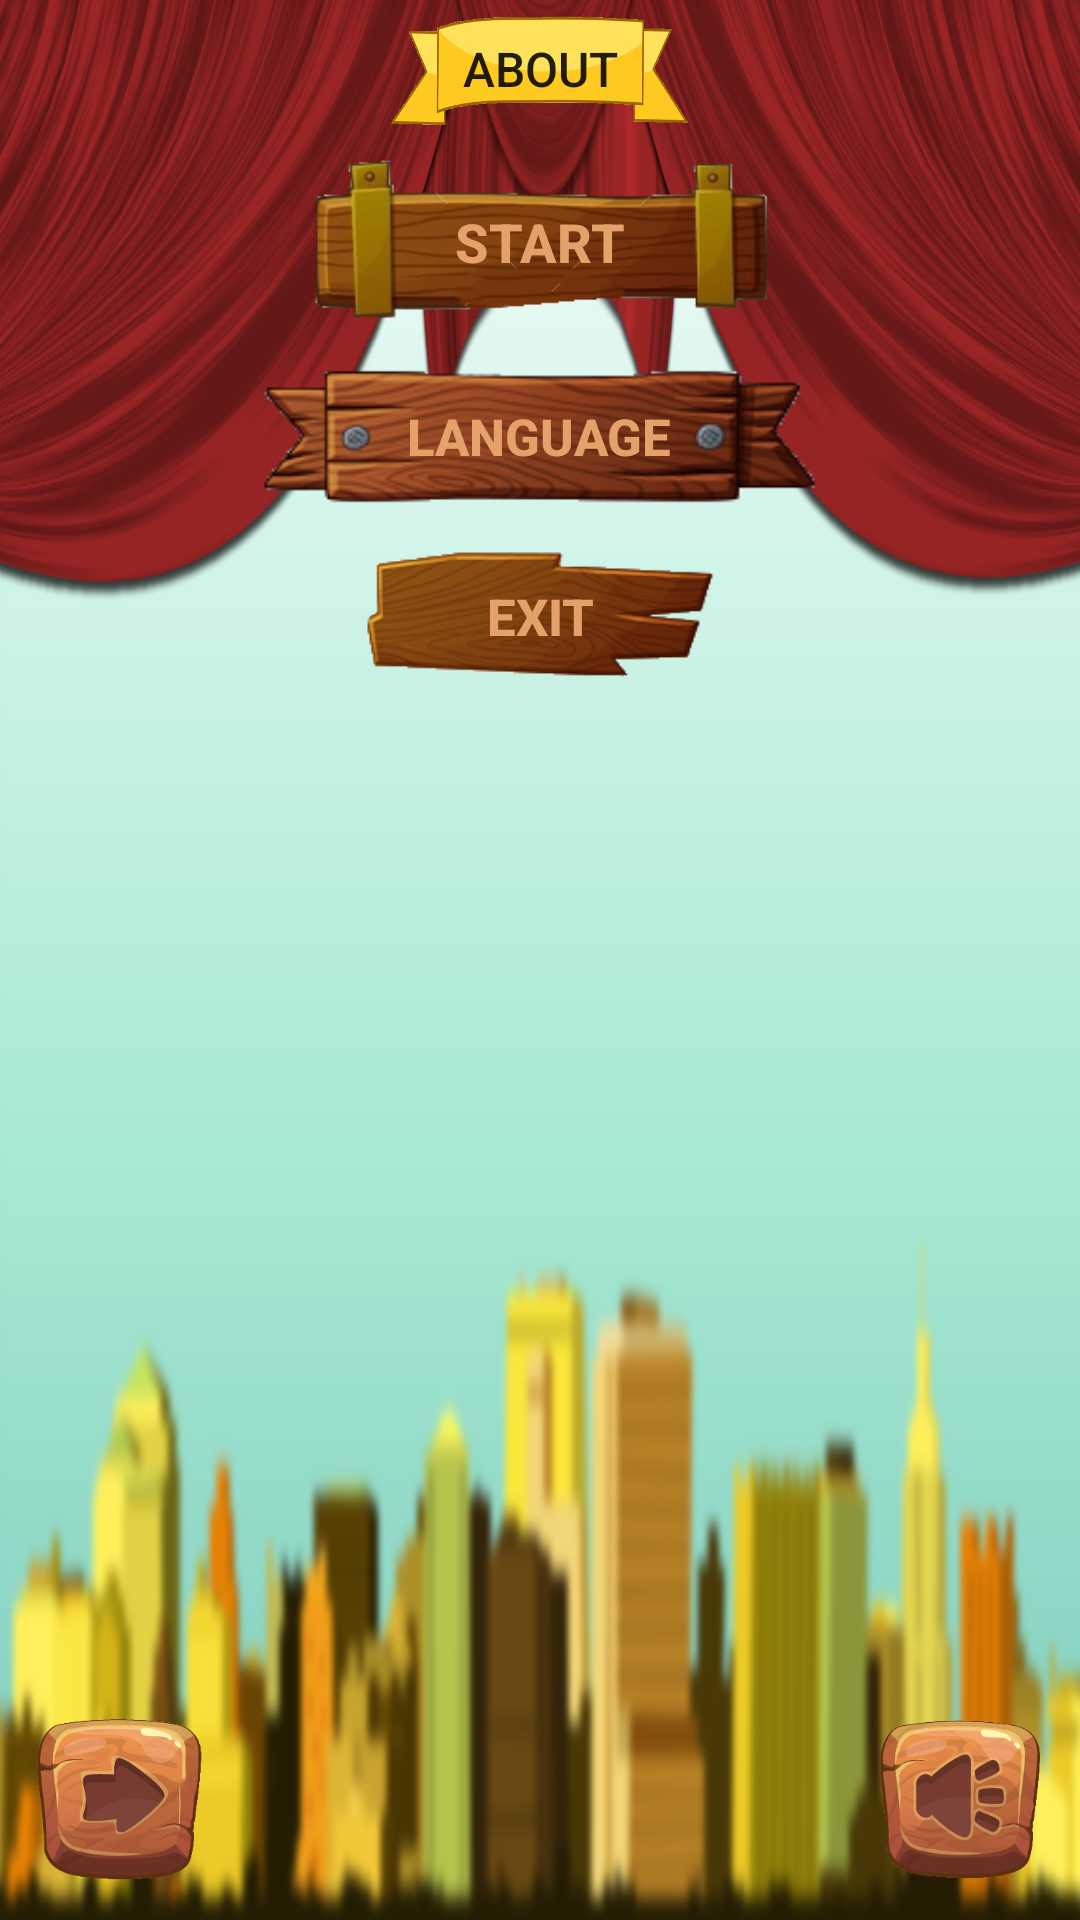

Point at icon controls on the screen. Image size 1080 × 1920, points as (x,y).
check sound: (960,1800)
